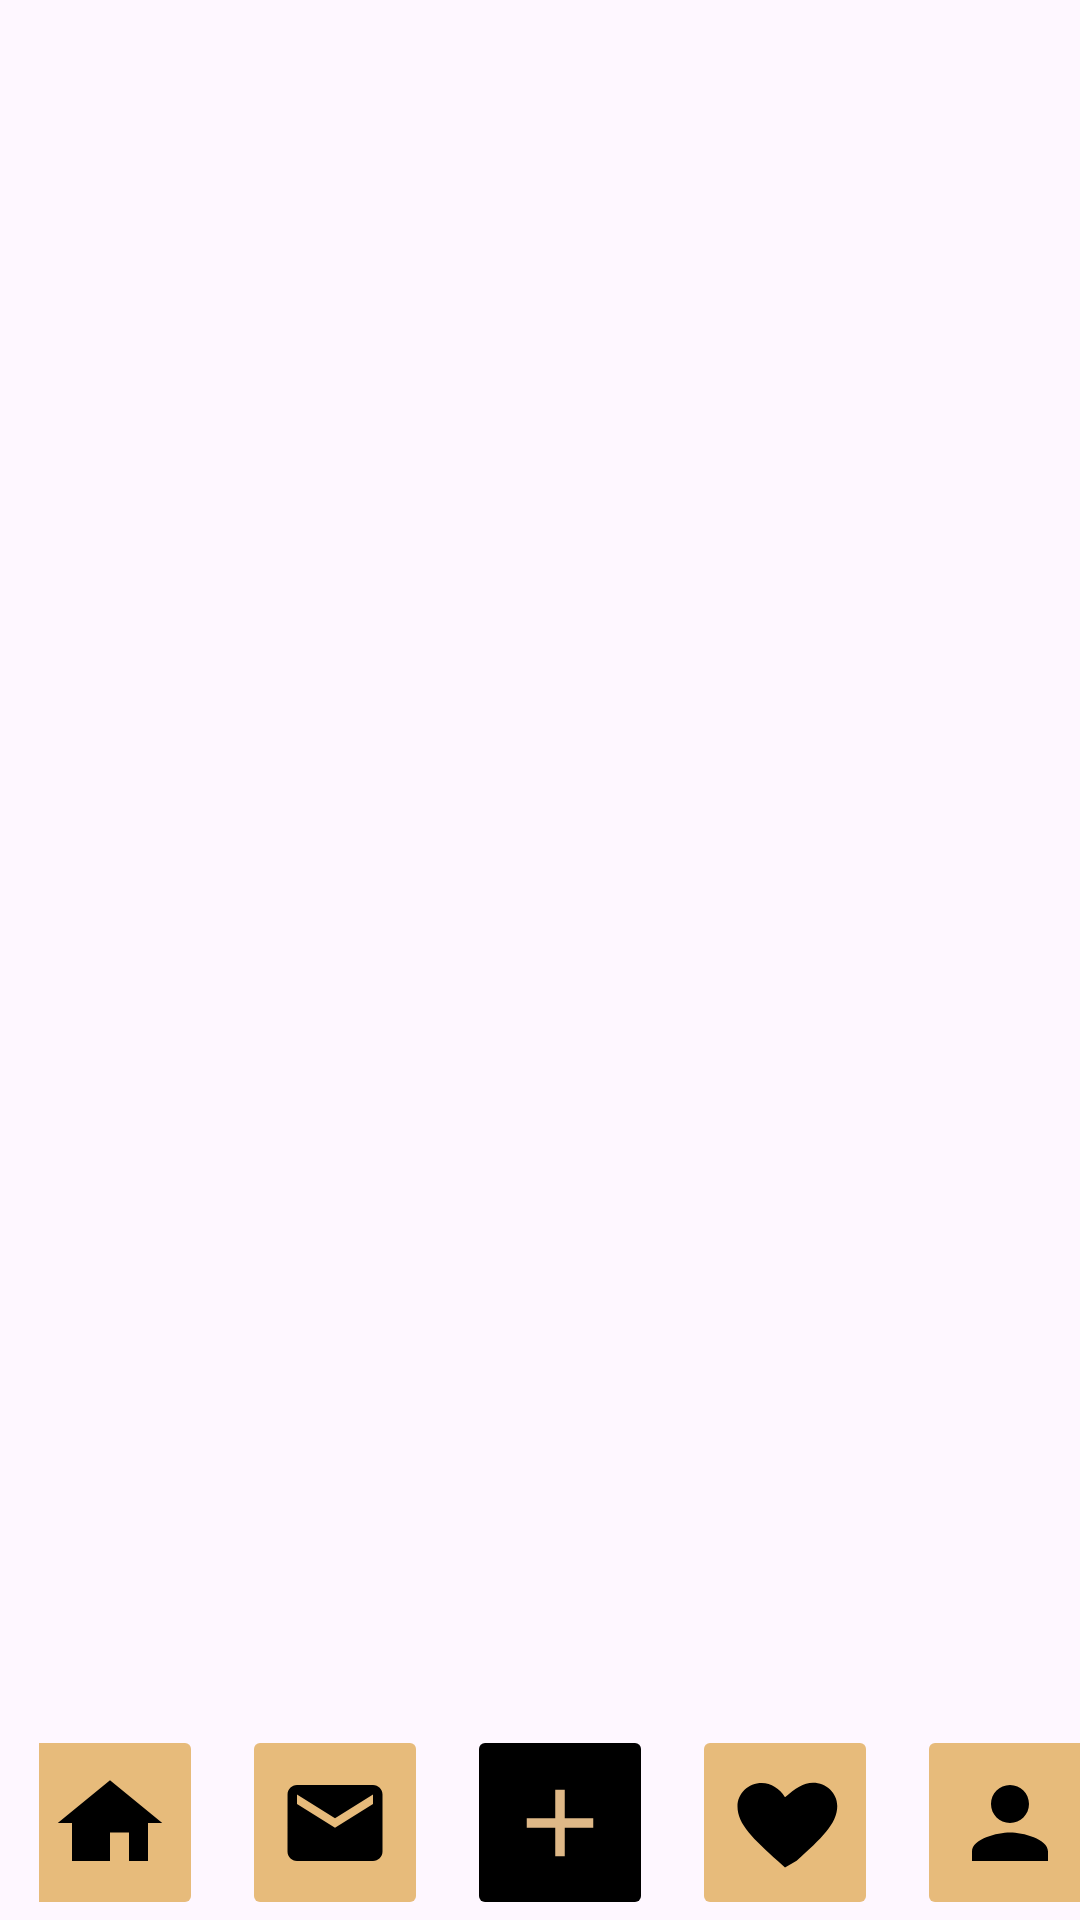

Where to tap for icons on this 1080px×1920px app screen, as [x,y]:
chat: [335,1822]
home: [115,1822]
sell: [560,1822]
